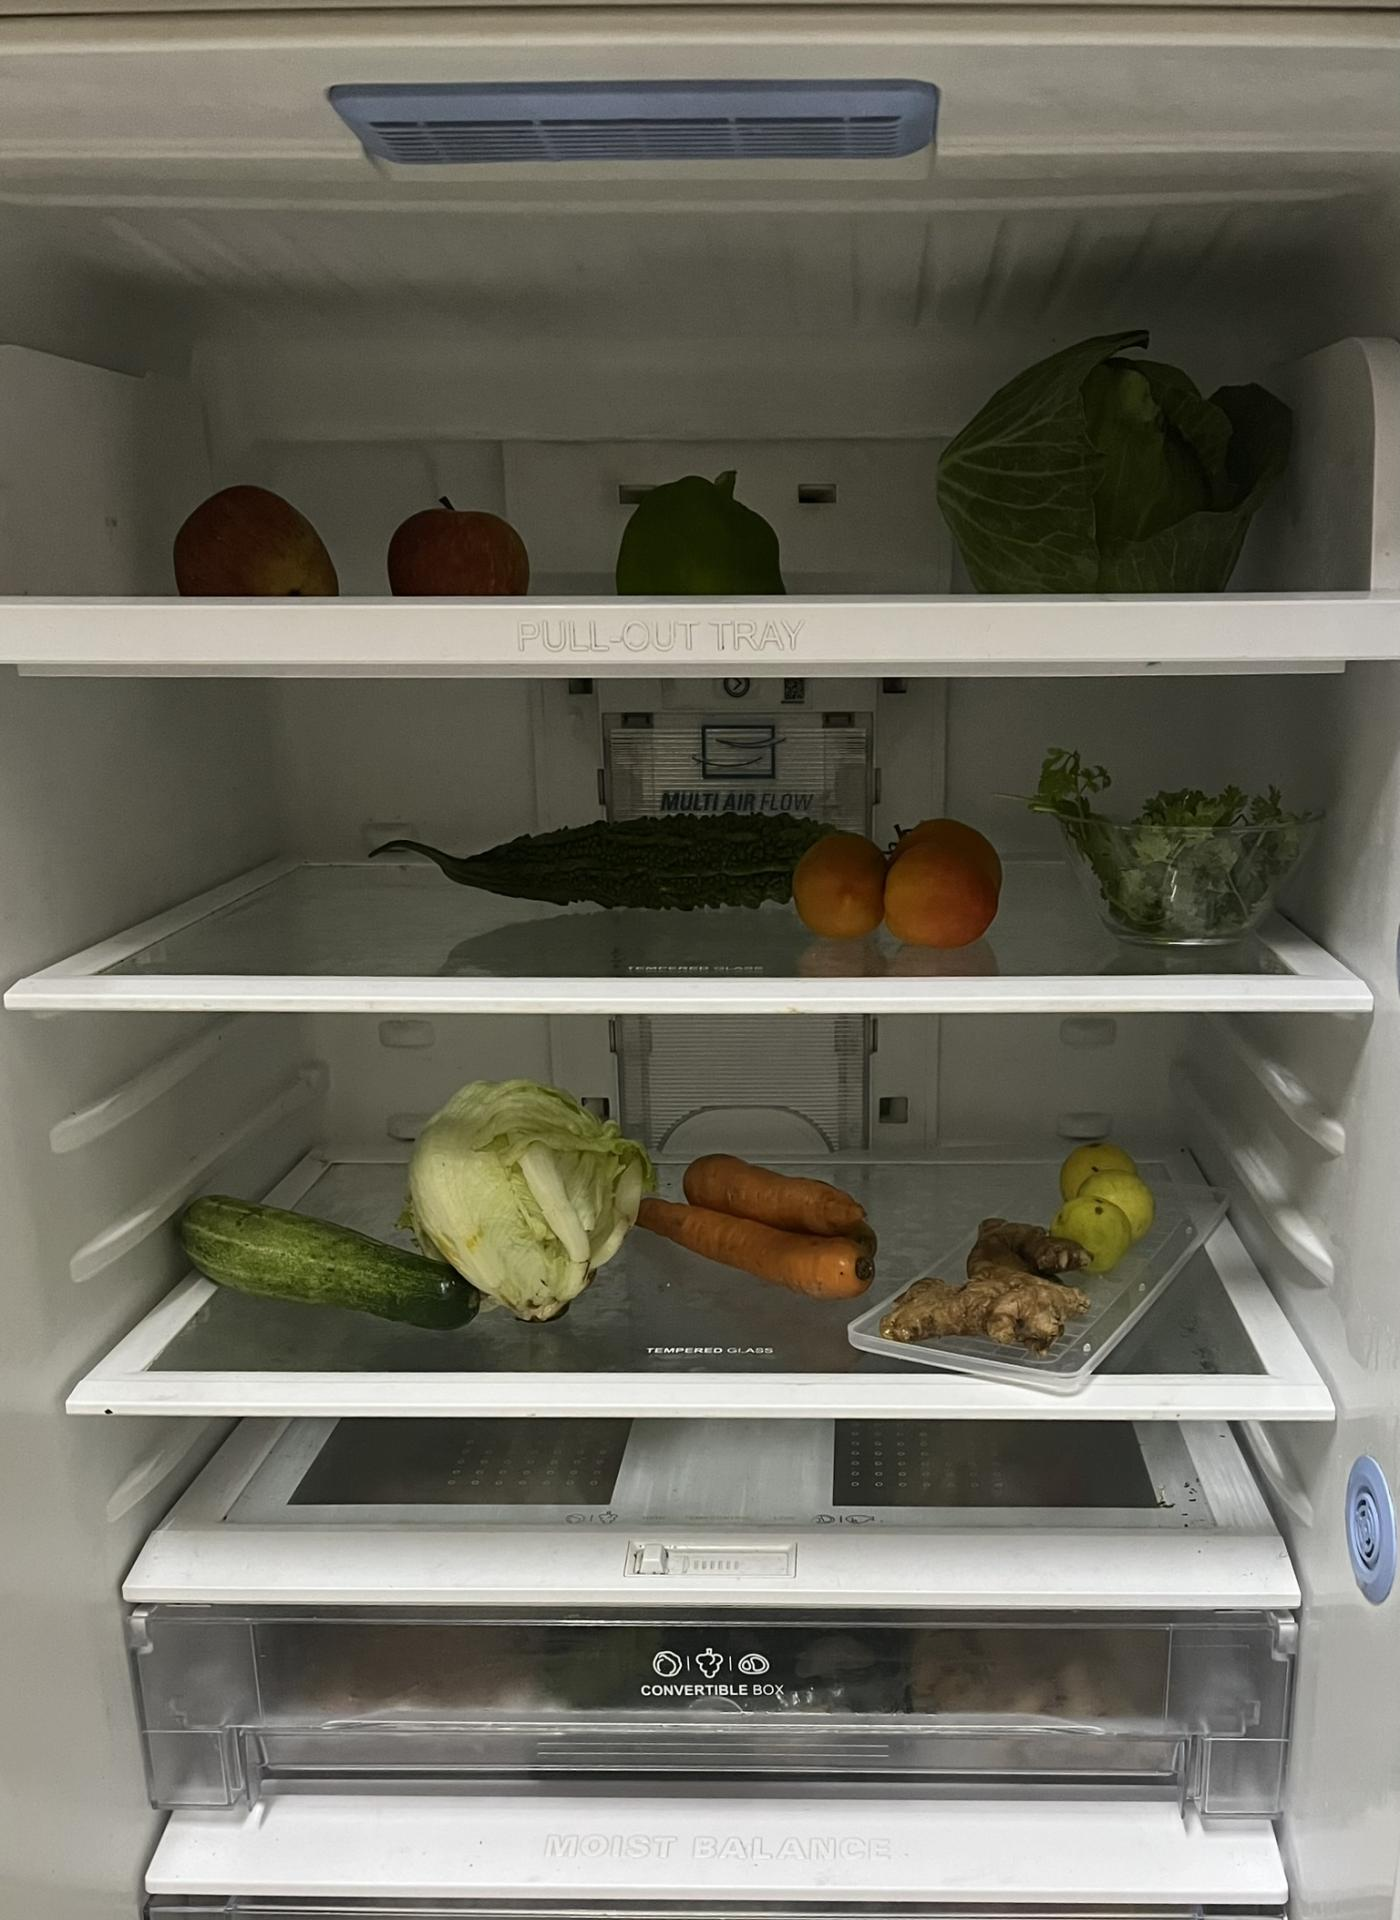apple: (191, 473, 525, 596)
bitter gourd: (404, 809, 845, 912)
cabbage: (951, 341, 1294, 596), (413, 1078, 647, 1319)
capsicum: (620, 473, 793, 596)
carrots: (647, 1154, 884, 1291)
coriander: (1045, 753, 1322, 932)
cucumber: (176, 1197, 480, 1331)
ginger: (887, 1219, 1094, 1354)
lemon: (1051, 1137, 1158, 1266)
tomato: (802, 827, 1006, 953)
